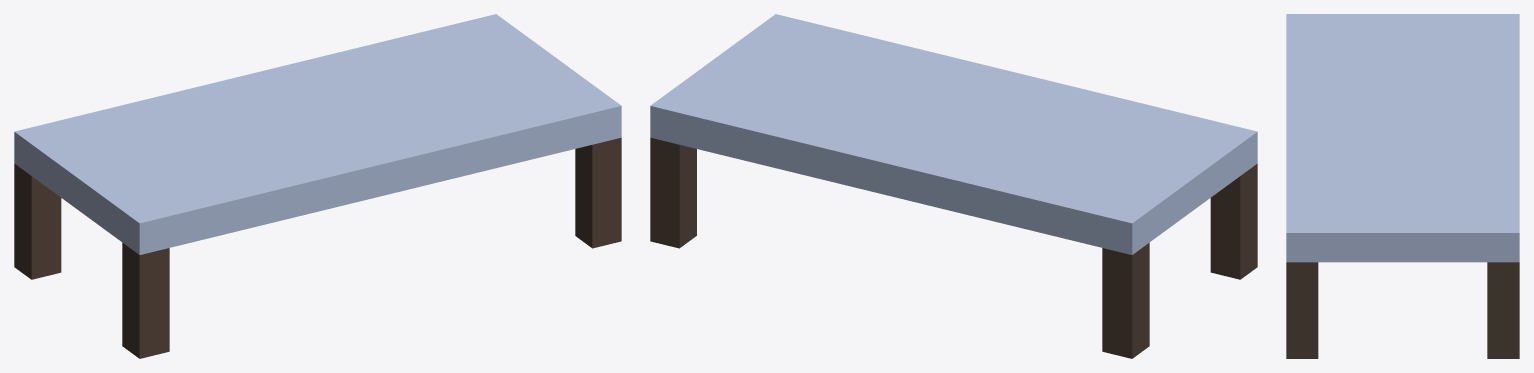
Rendered from CoffeeTable.fbx.
3 renders of one model, left to right at view 1: azimuth 30°, elevation 25°; view 2: azimuth 150°, elevation 25°; view 3: azimuth 270°, elevation 25°, orthographic. The views are drawn at different scales.
Parts seen in each view (by area): view 1: CoffeeTable; view 2: CoffeeTable; view 3: CoffeeTable.
Boxes of the visible parts, left/top/right/bottom form: CoffeeTable: left=14, top=14, right=621, bottom=358; CoffeeTable: left=650, top=14, right=1257, bottom=358; CoffeeTable: left=1286, top=14, right=1519, bottom=358.
Bounding box in the file's own units: 289 × 77.79 × 131.
